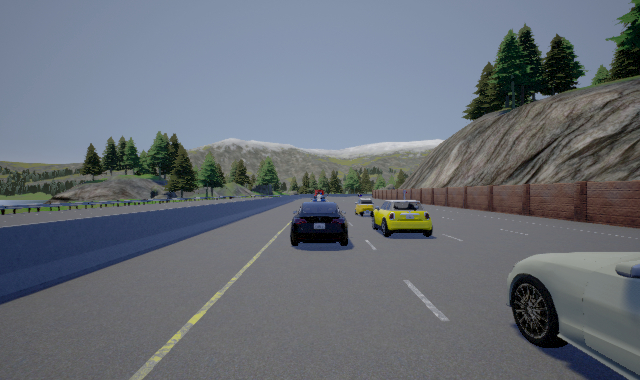traffic_sign: (403, 190, 407, 194)
vehicle: (506, 252, 640, 380), (291, 200, 348, 246), (370, 199, 433, 237), (352, 198, 376, 217)
